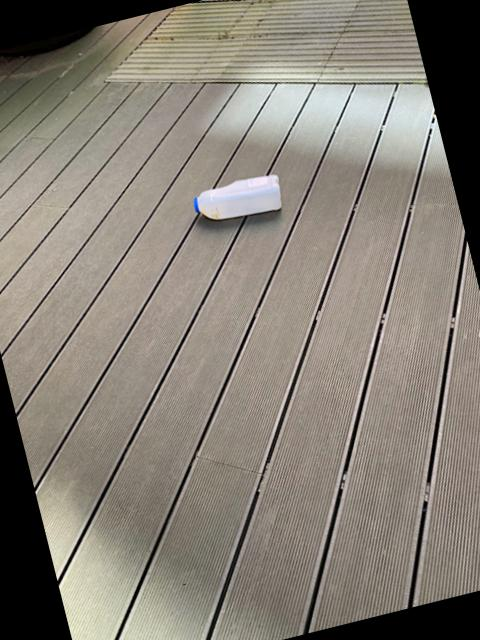plastic: (192, 173, 280, 218)
